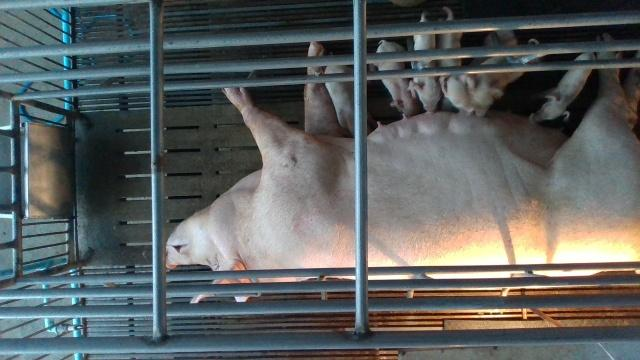piglet: (443, 56, 526, 111), (533, 53, 596, 122), (438, 6, 475, 114), (324, 65, 373, 137), (377, 39, 421, 118), (408, 11, 441, 113)
sow-sleep-lactate: (165, 42, 640, 276)
